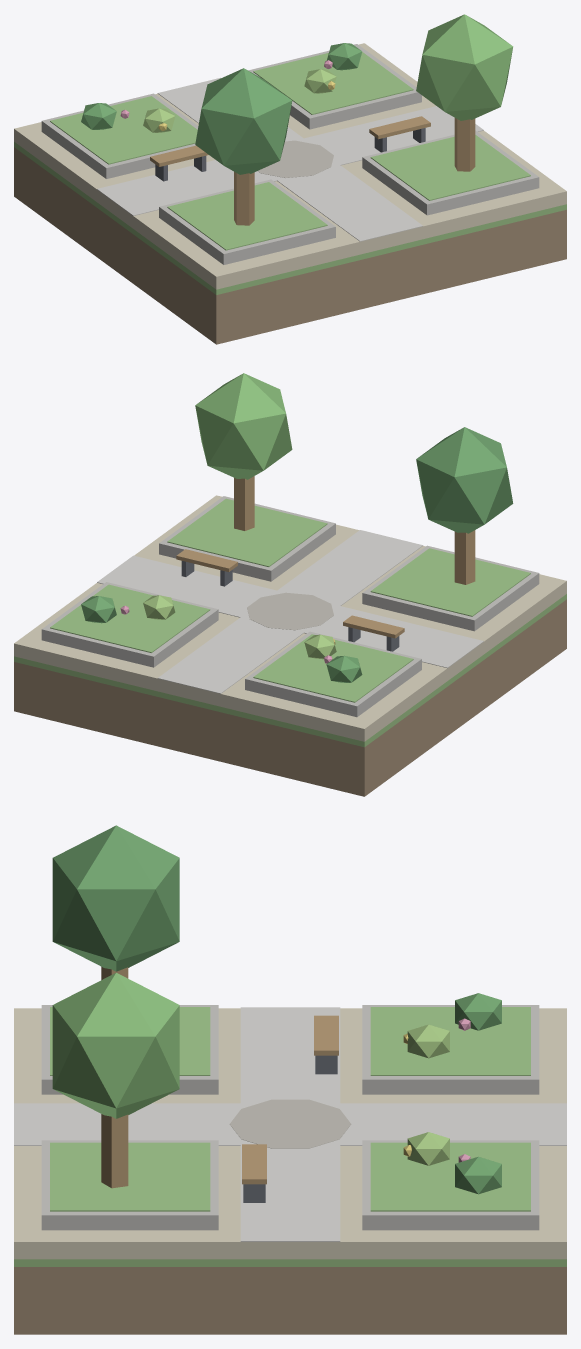
The model's file is ruas__praca.glb.
3 views of the same model, one above another, from view 1: azimuth 30°, elevation 25°; view 2: azimuth 150°, elevation 25°; view 3: azimuth 270°, elevation 25° (orthographic). The views are drawn at different scales.
Visible parts, largest first — view 1: ruas__praca; view 2: ruas__praca; view 3: ruas__praca.
Part boxes in pixels (x1,y1,x2,y2): ruas__praca: (14,14,566,344); ruas__praca: (14,373,566,796); ruas__praca: (14,825,566,1334).
Bounding box in the file's own units: 2 × 1.27 × 2.
